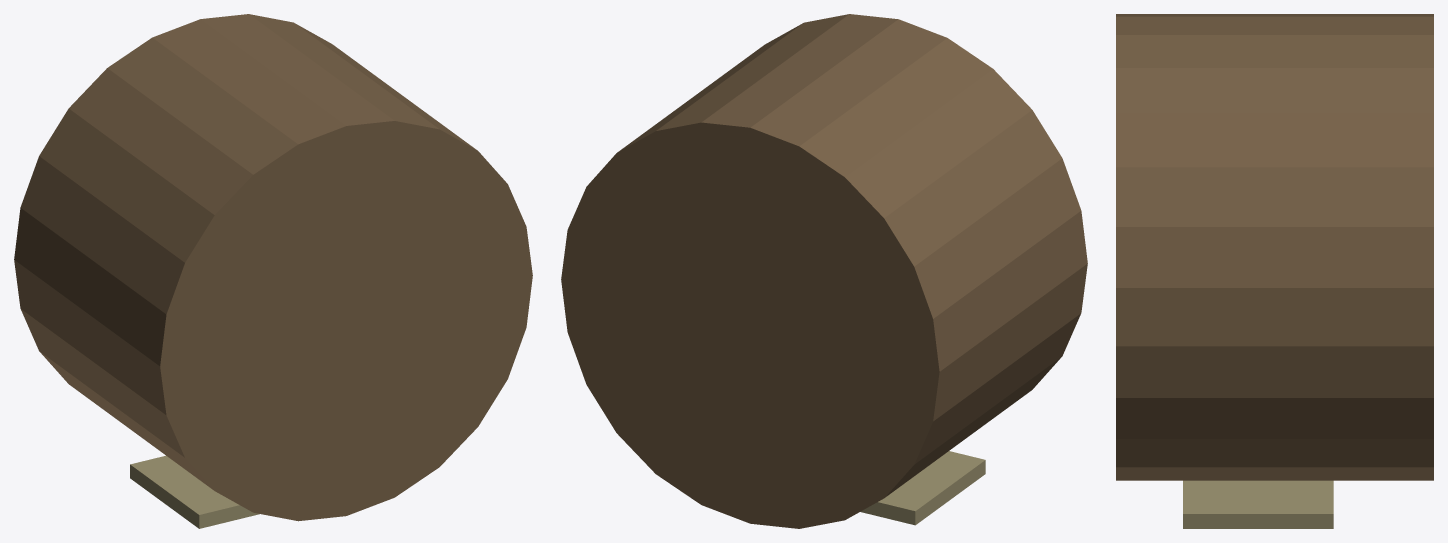
Rendered from food_can.obj.
The picture shows the model from 3 angles, left to right: view 1: azimuth 30°, elevation 25°; view 2: azimuth 150°, elevation 25°; view 3: azimuth 270°, elevation 25°; orthographic projection. The views are drawn at different scales.
Bounding box in the file's own units: 0.56 × 0.57 × 0.38.
